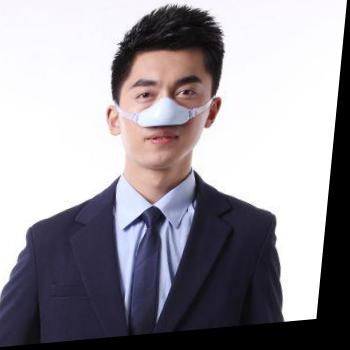WRONG: (110, 70, 215, 173)
